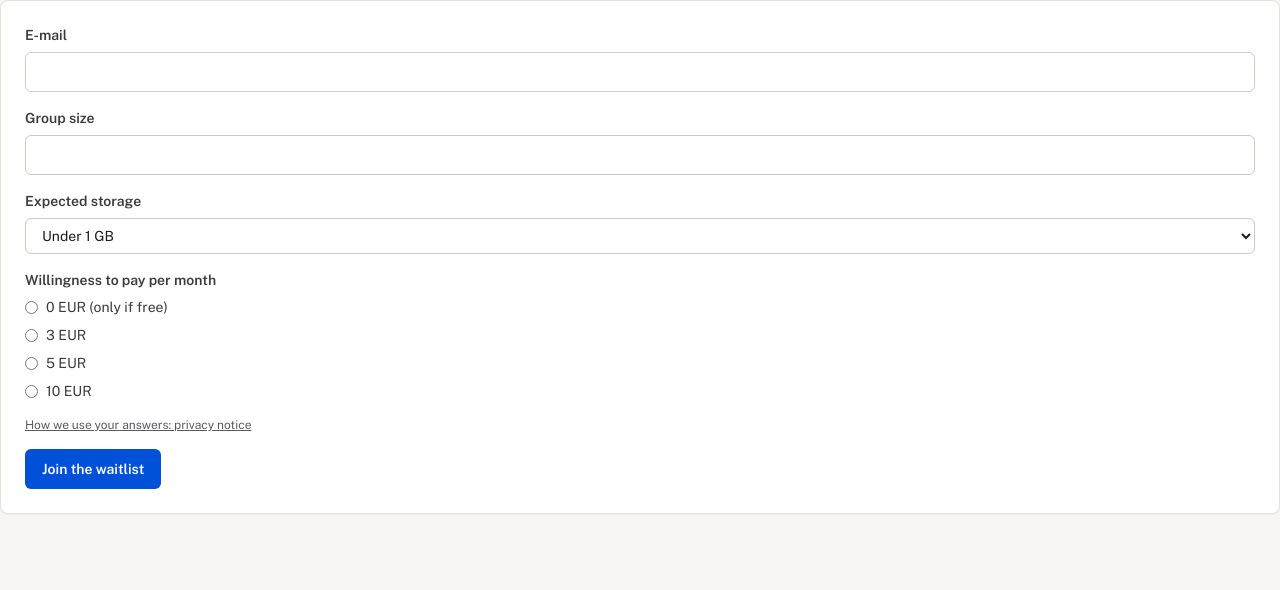
Test: explains INVALID_GROUP_SIZE
The width and height of the screenshot is (1280, 590).
In the field labelled "E-mail": (640, 72) [25,52,1255,92], type "Person@Example.test"
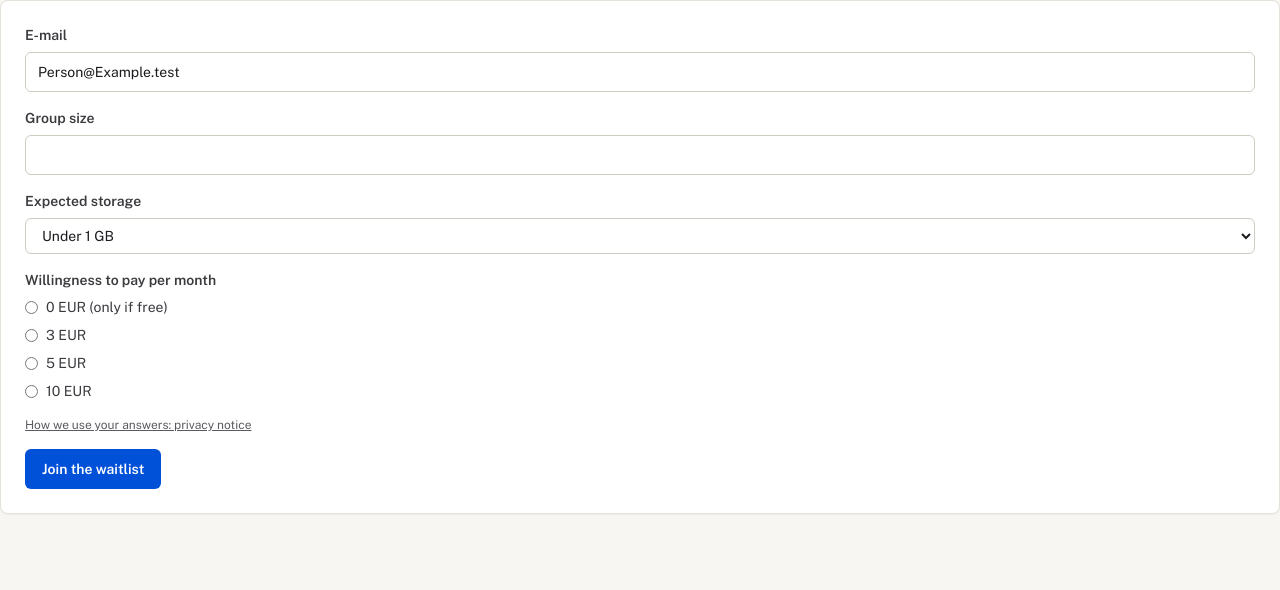
In the number field labelled "Group size": (640, 155) [25,135,1255,175], type "12"
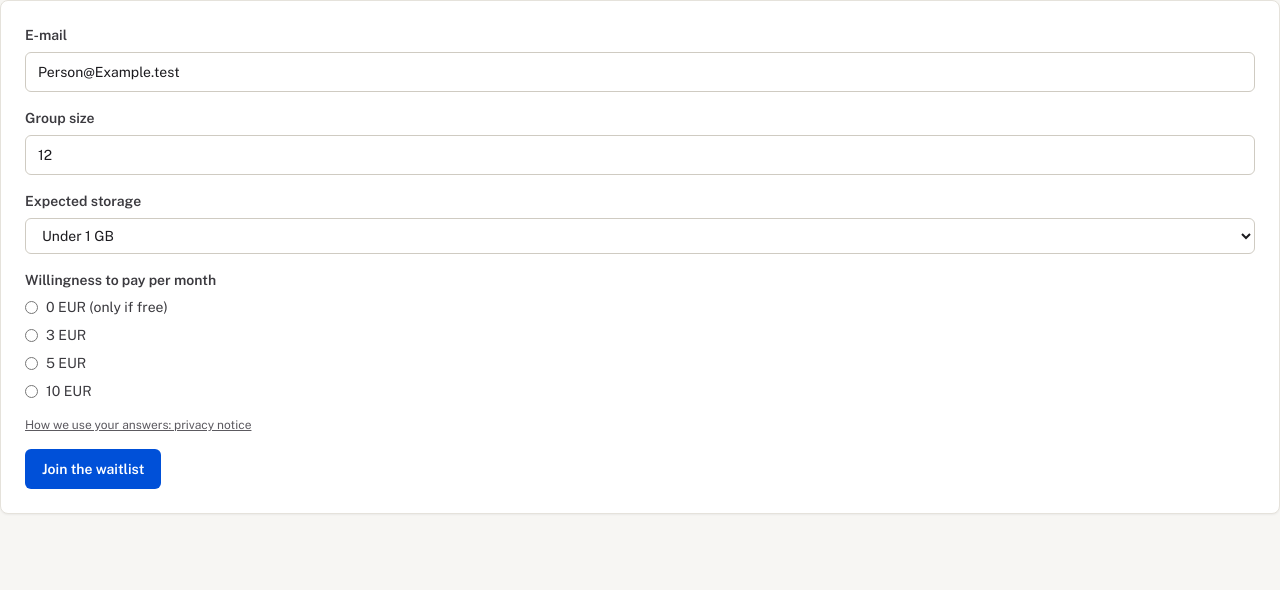
Select "10–100 GB" in the dropdown labelled "Expected storage": (640, 236) [25,218,1255,254]
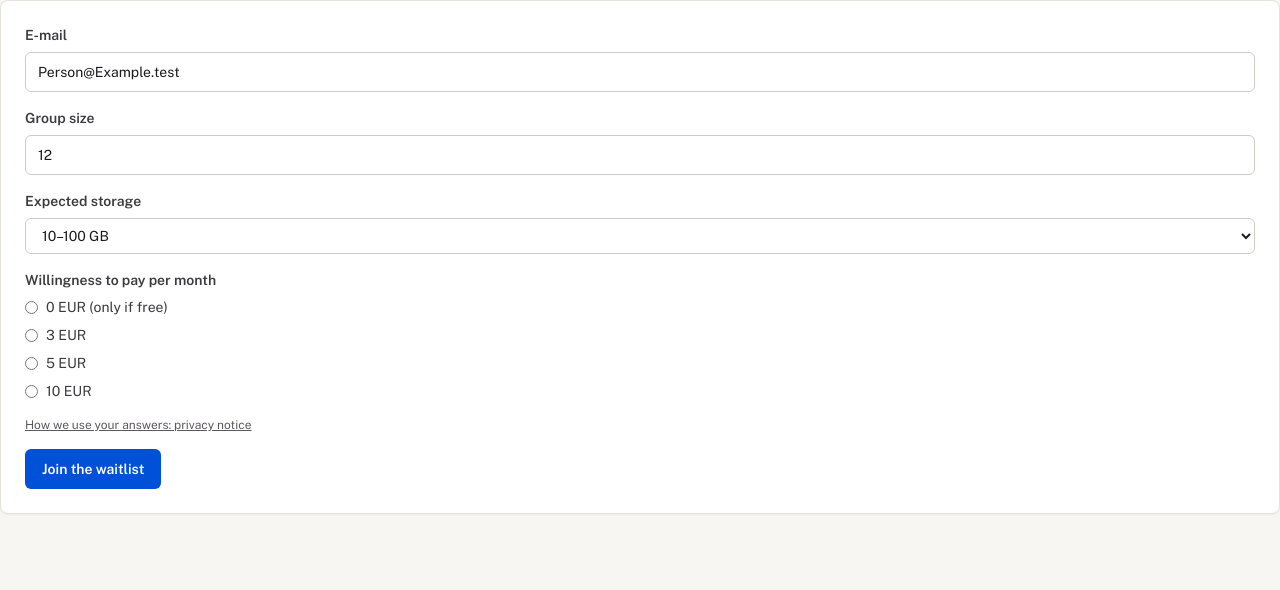
Click the radio button labelled "5 EUR": (32, 363) [25,356,38,370]
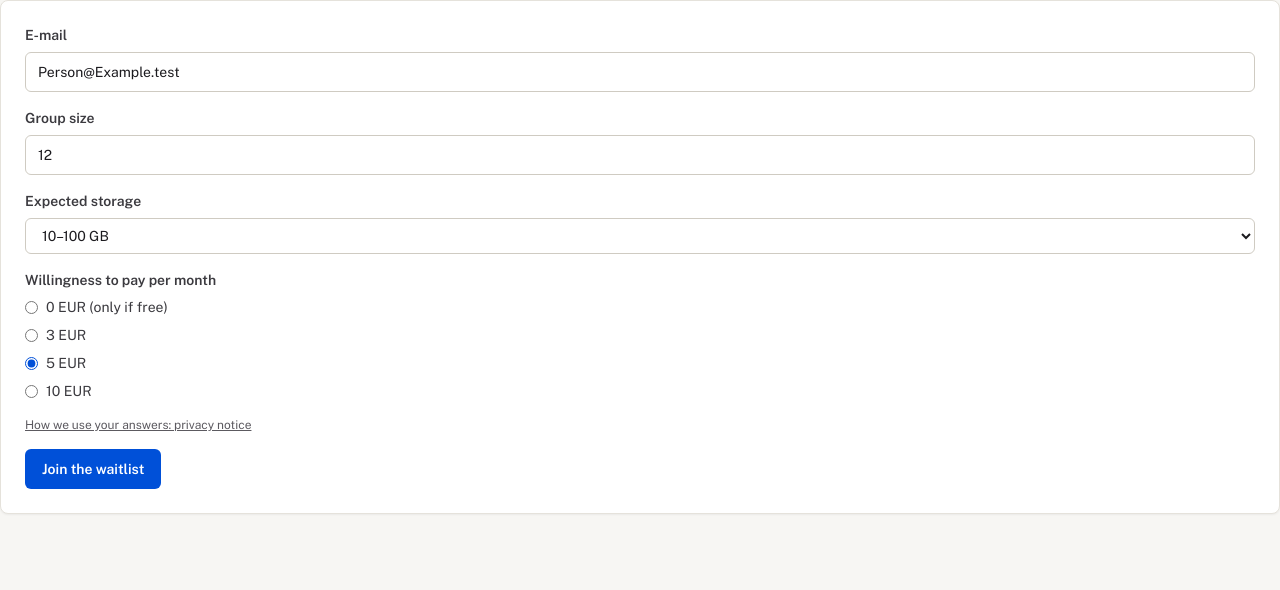
Submit the form named "Join the waitlist"
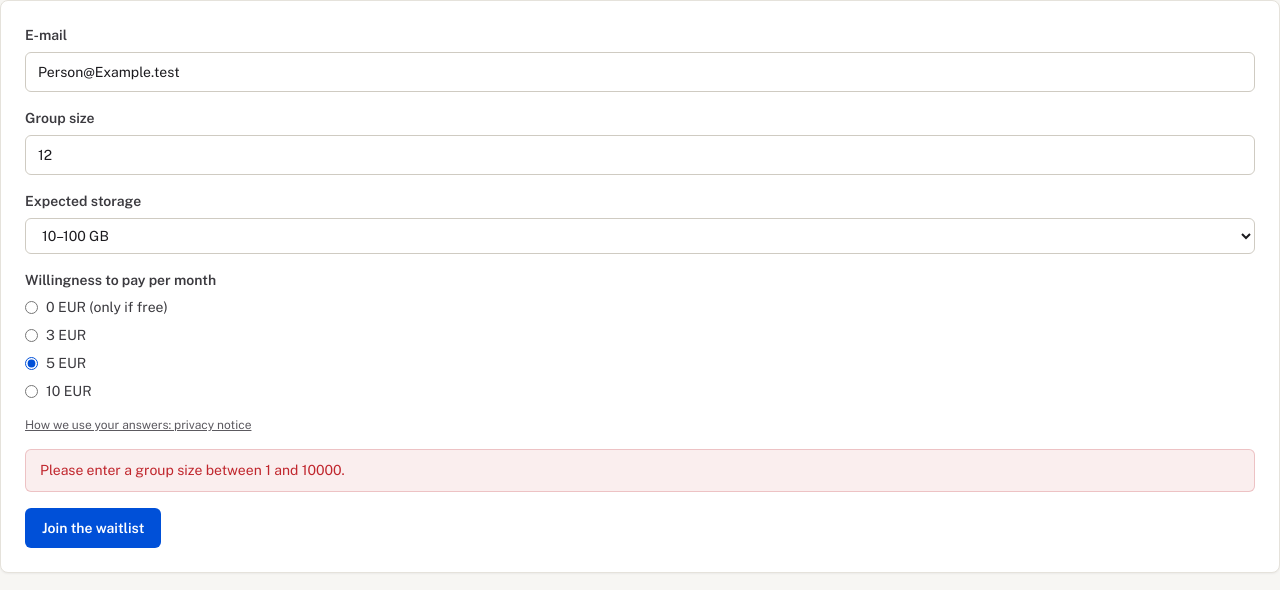
Expected: the message reads "Please enter a group size between 1 and 10000.", [40,462,345,478]
